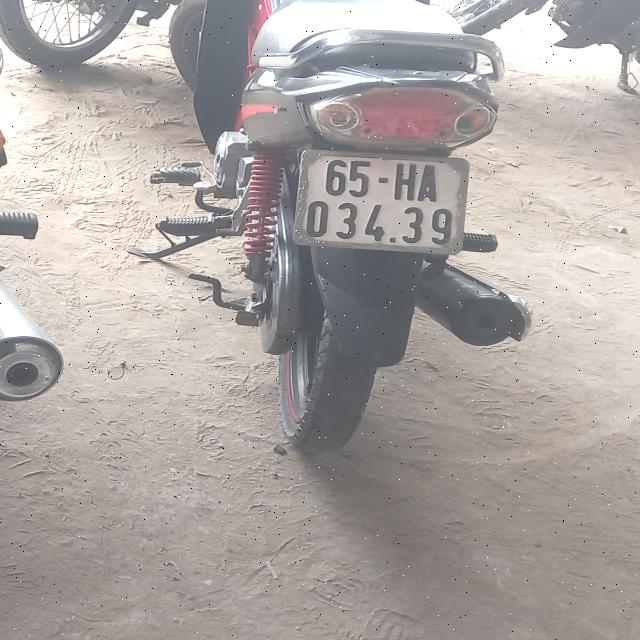0: (308, 200, 330, 238)
3: (334, 202, 358, 241), (402, 206, 425, 244)
4: (364, 204, 386, 242)
5: (348, 160, 369, 196)
6: (326, 160, 346, 196)
9: (431, 208, 452, 245)
A: (418, 165, 438, 202)
H: (393, 163, 419, 200)
